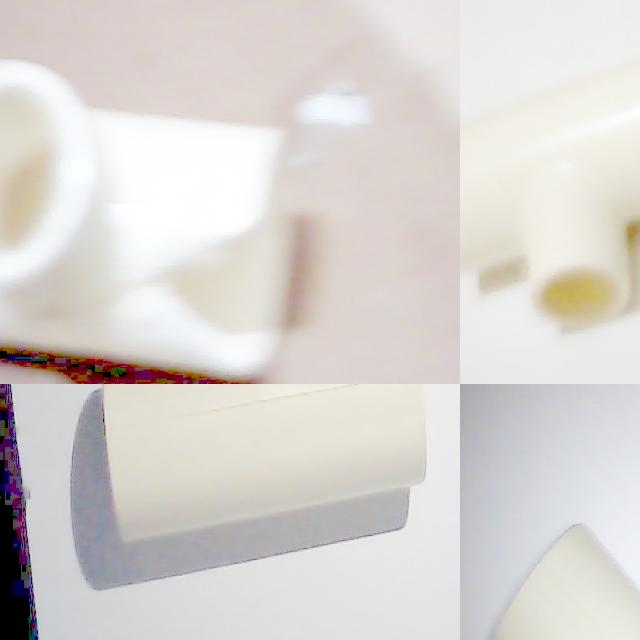Defective: (167, 215, 288, 335)
T Joint: (0, 61, 283, 384), (98, 384, 426, 538), (460, 58, 640, 320), (487, 524, 640, 640)
